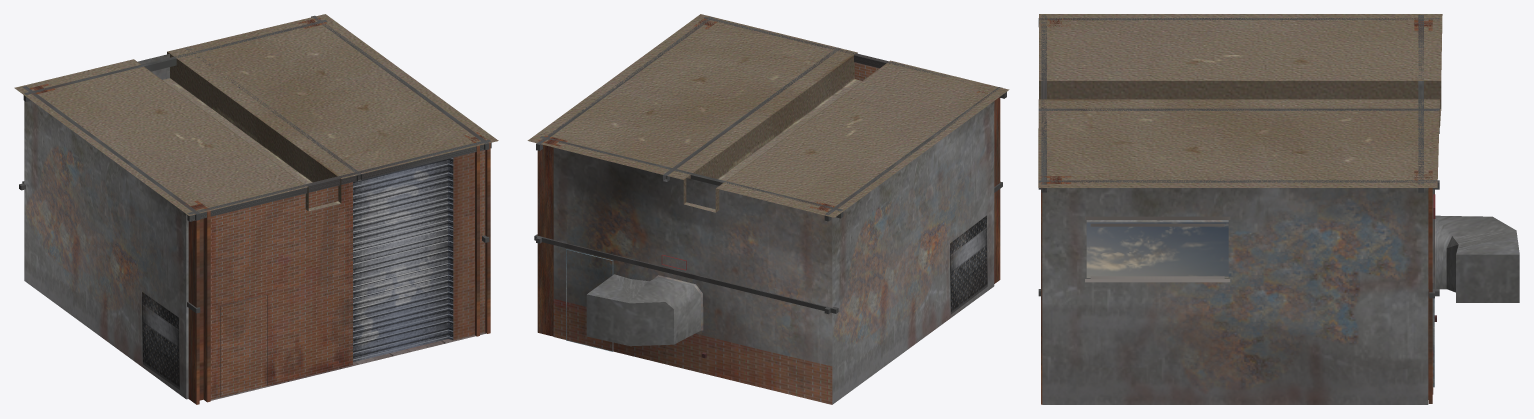
Rendered from room3.FBX.
3 views of the same model, side by side, from view 1: azimuth 30°, elevation 25°; view 2: azimuth 150°, elevation 25°; view 3: azimuth 270°, elevation 25° (orthographic). The views are drawn at different scales.
Parts seen in each view (by area): view 1: room3; view 2: room3; view 3: room3.
Part boxes in pixels (box(x1,y1,x2,y2)): room3: box(14, 14, 498, 404); room3: box(527, 14, 1009, 404); room3: box(1038, 14, 1519, 404).
Bounding box in the file's own units: 1066 × 625 × 1236.
